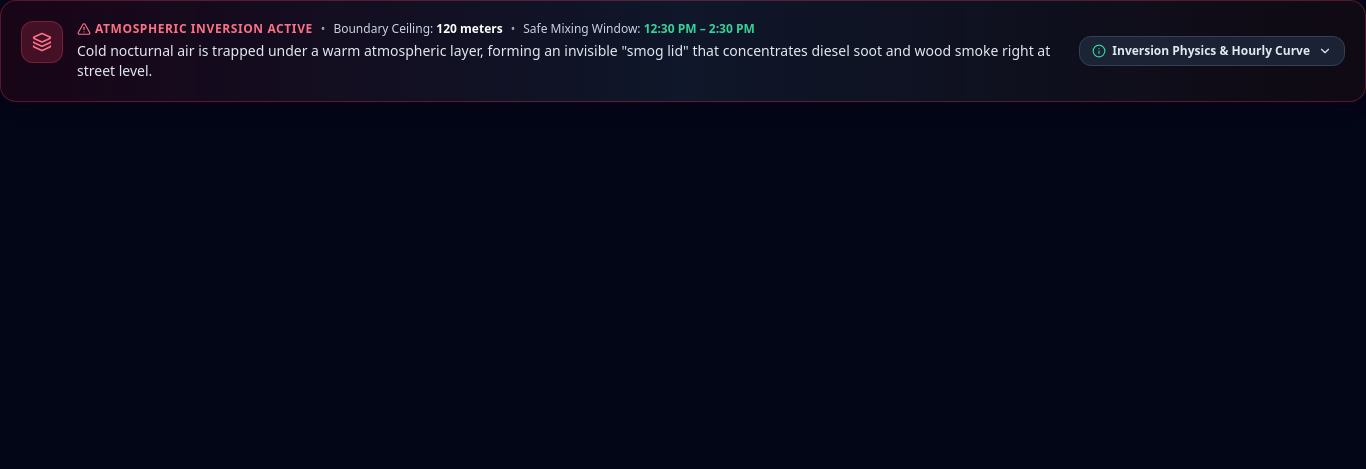
Scenario: InversionBanner Component › expands and collapses the educational physics & hourly curve section
Expected: the text "How Winter Inversions Work" is not shown
Click the button "Inversion Physics & Hourly Curve" at [1212, 51], box [1079,36,1345,66]
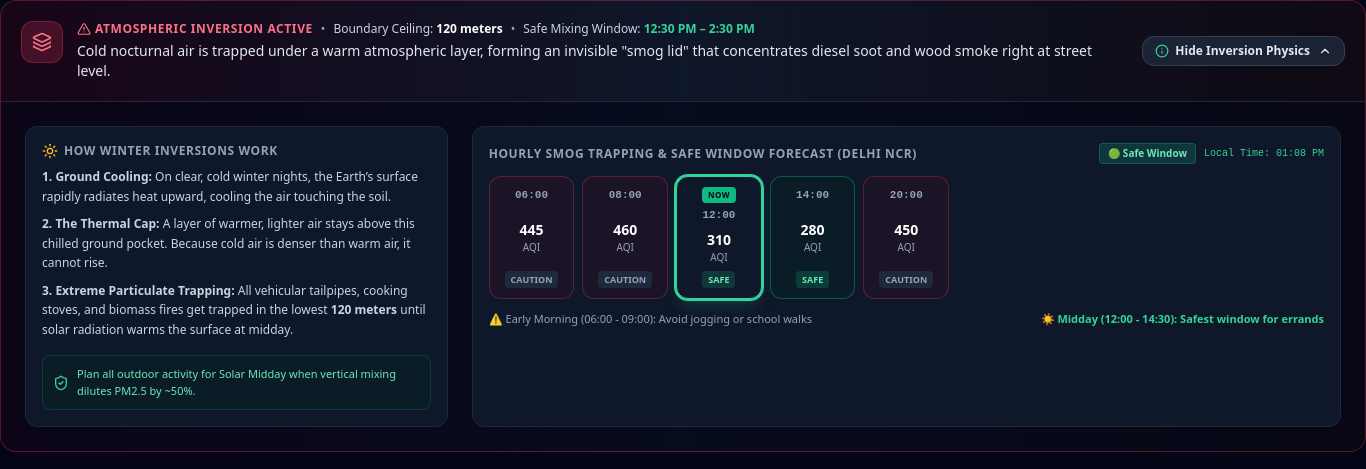
Expected: the heading "How Winter Inversions Work" is shown, [42,142,278,159]
Expected: the heading "Hourly Smog Trapping & Safe Window Forecast (Delhi NCR)" is shown, [489,146,917,162]
Expected: the text "06:00" is shown, [515,187,548,204]
Click the button named "Inversion Physics & Hourly Curve" at [1244, 51], box [1142,36,1345,66]
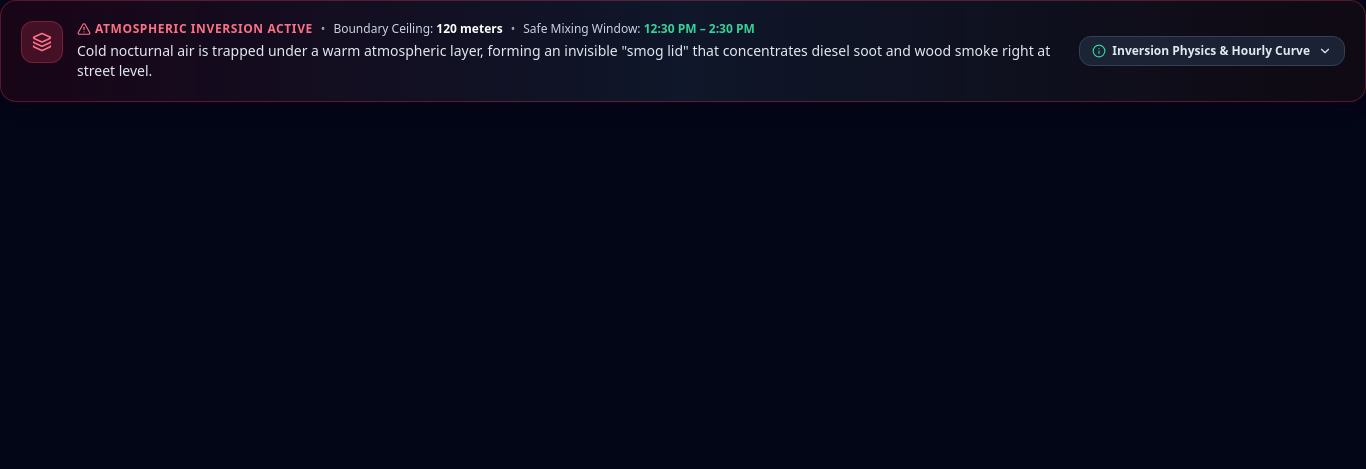
Expected: the heading "How Winter Inversions Work" is gone
